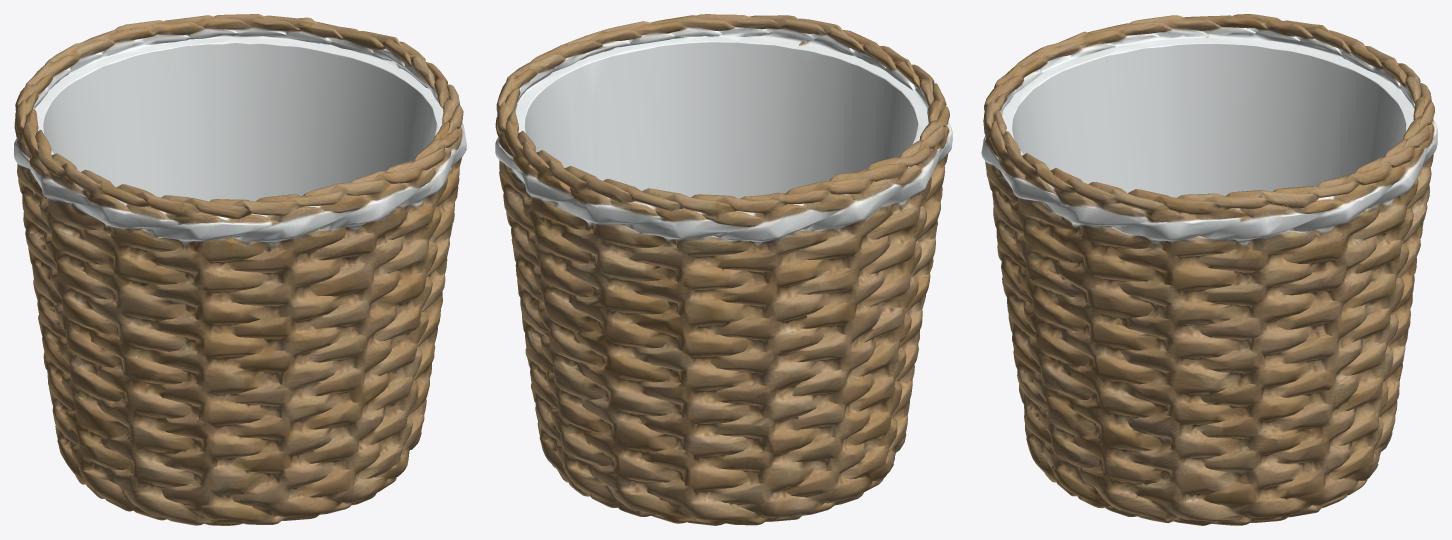
File: fridfull_osonka_doniczki_90155870.glb
The picture shows the model from 3 angles, left to right: view 1: azimuth 30°, elevation 25°; view 2: azimuth 150°, elevation 25°; view 3: azimuth 270°, elevation 25°; orthographic projection.
Visible parts, largest first — view 1: fridfull_osonka_doniczki_90155870; view 2: fridfull_osonka_doniczki_90155870; view 3: fridfull_osonka_doniczki_90155870.
Boxes of the visible parts, left/top/right/bottom form: fridfull_osonka_doniczki_90155870: left=14, top=14, right=466, bottom=525; fridfull_osonka_doniczki_90155870: left=495, top=14, right=952, bottom=525; fridfull_osonka_doniczki_90155870: left=981, top=14, right=1437, bottom=525.
Bounding box in the file's own units: 0.151 × 0.1306 × 0.1509.
Materials: 1 (1 with a texture image).
